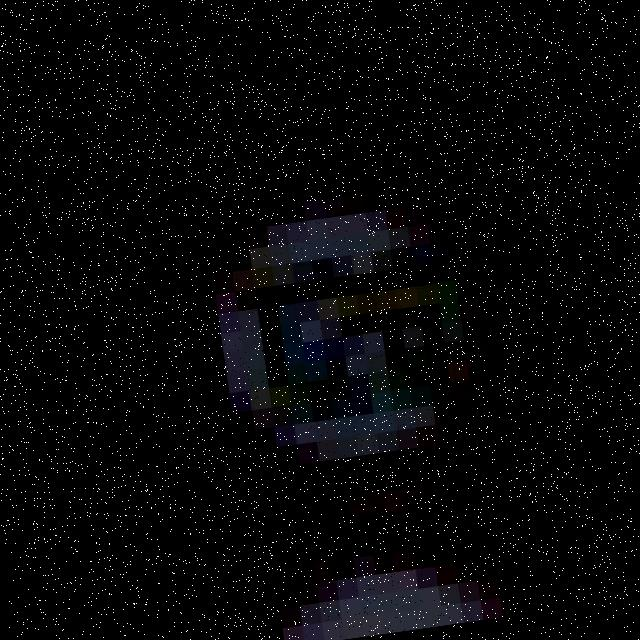Ograniczenie predkosci do 120: (160, 140, 546, 538)
